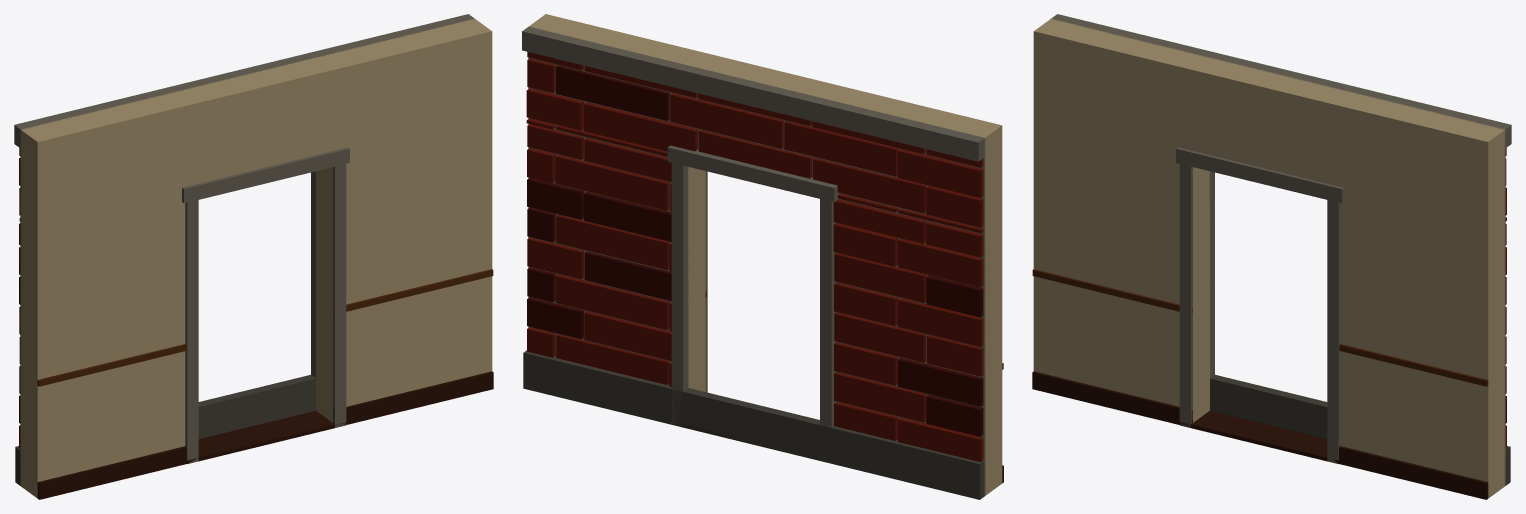
Rendered from SM_Bld_Wall_Brick_Doorway.glb.
3 renders of one model, left to right at view 1: azimuth 30°, elevation 25°; view 2: azimuth 150°, elevation 25°; view 3: azimuth 330°, elevation 25°, orthographic.
Visible parts, largest first — view 1: SM_Bld_Wall_Brick_Doorway; view 2: SM_Bld_Wall_Brick_Doorway; view 3: SM_Bld_Wall_Brick_Doorway.
Part boxes in pixels (x1,y1,x2,y2): SM_Bld_Wall_Brick_Doorway: [14, 14, 493, 499]; SM_Bld_Wall_Brick_Doorway: [522, 14, 1003, 499]; SM_Bld_Wall_Brick_Doorway: [1032, 14, 1511, 499].
Bounding box in the file's own units: 4 × 3 × 0.39.
Materials: 1 (1 with a texture image).
